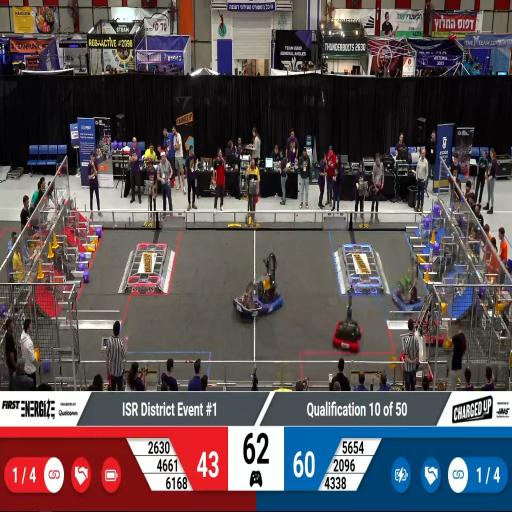robot: (396, 346, 434, 384), (332, 308, 364, 352), (392, 271, 422, 317), (255, 269, 284, 316), (415, 305, 445, 345), (234, 283, 264, 320)
